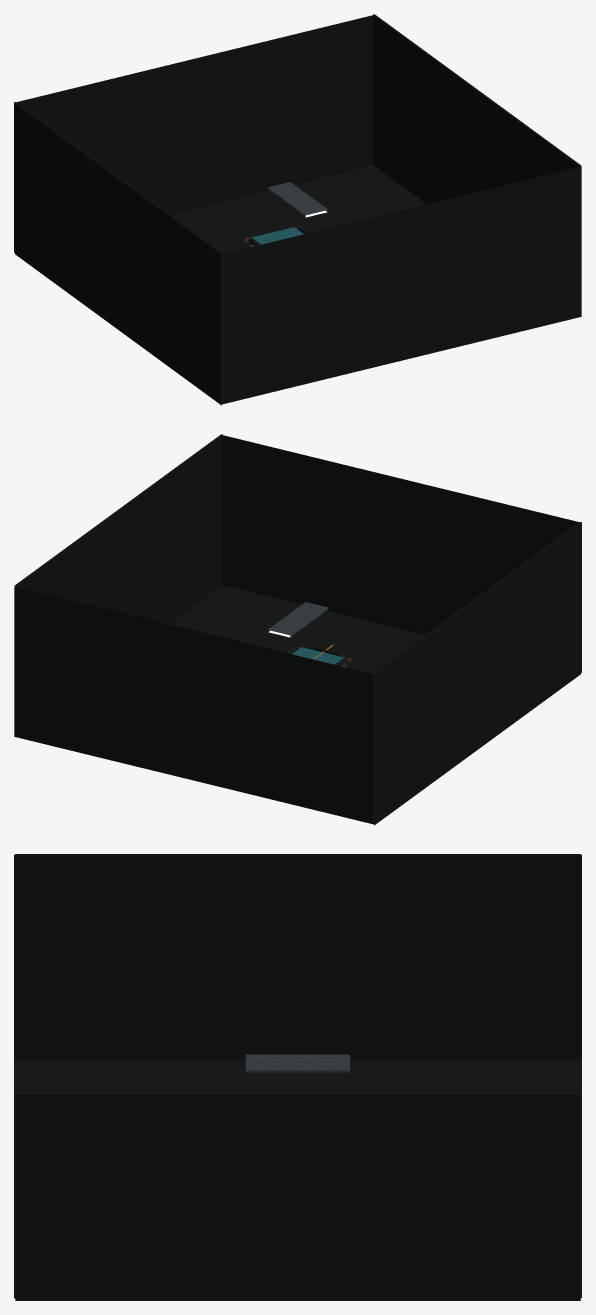
File: focused_practice_hall_modular_v1.gltf
The picture shows the model from 3 angles, top to bottom: view 1: azimuth 30°, elevation 25°; view 2: azimuth 150°, elevation 25°; view 3: azimuth 270°, elevation 25°; orthographic projection. The views are drawn at different scales.
Parts seen in each view (by area): view 1: NODE_background_wall_pz, NODE_background_wall_nz, NODE_background_wall_nx, NODE_background_wall_px, NODE_background_floor, NODE_lamp_housing_LOD0; view 2: NODE_background_wall_nz, NODE_background_wall_pz, NODE_background_wall_nx, NODE_background_wall_px, NODE_background_floor, NODE_lamp_housing_LOD0; view 3: NODE_background_wall_px, NODE_background_wall_nx, NODE_background_floor, NODE_lamp_housing_LOD0, NODE_background_wall_nz, NODE_background_wall_pz.
Boxes of the visible parts, x1,y1,x2,y2 form: NODE_background_wall_pz: [222, 166, 581, 404]; NODE_background_wall_nz: [16, 15, 373, 214]; NODE_background_wall_nx: [14, 102, 222, 403]; NODE_background_wall_px: [373, 14, 581, 203]; NODE_background_floor: [15, 165, 426, 405]; NODE_lamp_housing_LOD0: [267, 182, 327, 217]; NODE_background_wall_nz: [14, 586, 373, 824]; NODE_background_wall_pz: [222, 435, 579, 634]; NODE_background_wall_nx: [373, 522, 581, 823]; NODE_background_wall_px: [14, 434, 222, 623]; NODE_background_floor: [169, 585, 580, 825]; NODE_lamp_housing_LOD0: [268, 602, 328, 637]; NODE_background_wall_px: [15, 1093, 580, 1298]; NODE_background_wall_nx: [15, 854, 580, 1059]; NODE_background_floor: [15, 1060, 580, 1300]; NODE_lamp_housing_LOD0: [245, 1054, 350, 1072]; NODE_background_wall_nz: [579, 854, 581, 1298]; NODE_background_wall_pz: [14, 854, 16, 1298].
Bounding box in the file's own units: 10.05 × 4.05 × 10.05.
12 materials, 8 textured.
